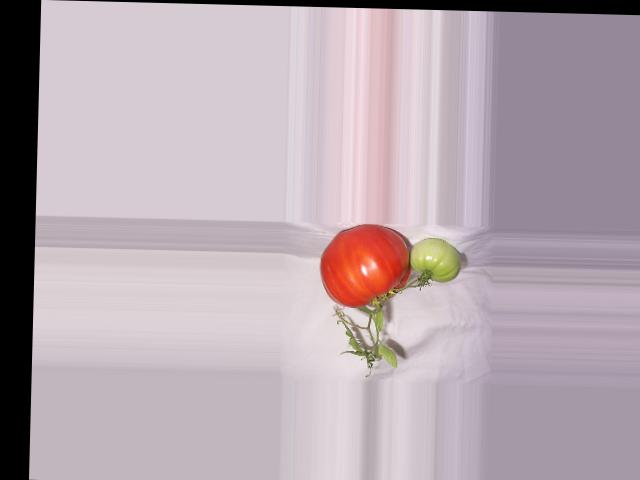tomato: (319, 223, 412, 309)
